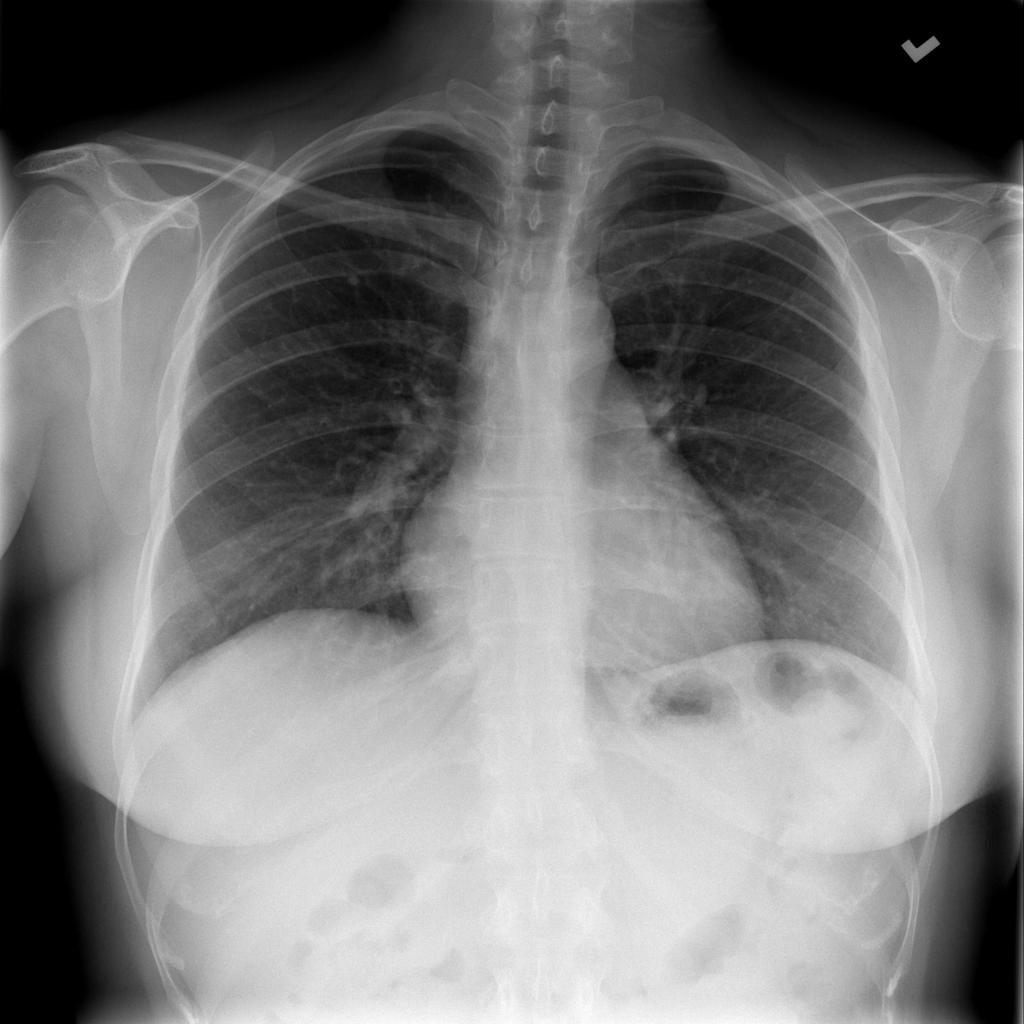nodule: (326, 254, 378, 302)
